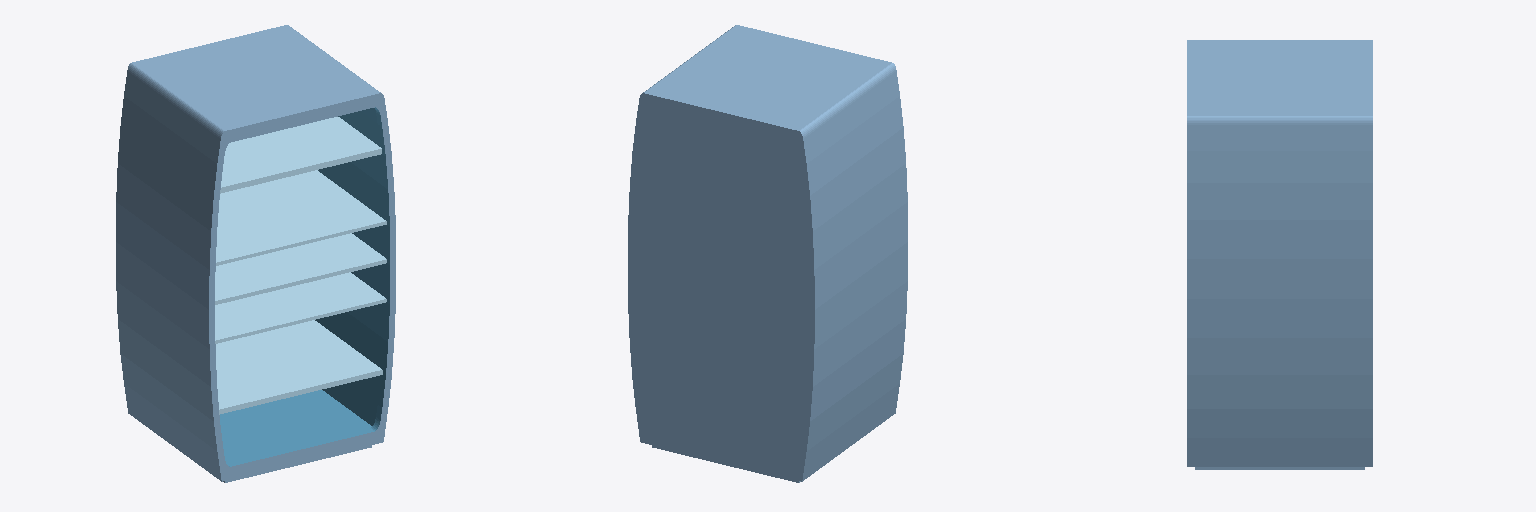
3 views of the same model, side by side, from view 1: azimuth 30°, elevation 25°; view 2: azimuth 150°, elevation 25°; view 3: azimuth 270°, elevation 25° (orthographic).
Parts seen in each view (by area): view 1: RefriRockoCuerpo:Mesh; view 2: RefriRockoCuerpo:Mesh; view 3: RefriRockoCuerpo:Mesh.
Boxes of the visible parts, box(x1,y1,x2,y2) form: RefriRockoCuerpo:Mesh: box(116, 25, 395, 482); RefriRockoCuerpo:Mesh: box(628, 25, 907, 482); RefriRockoCuerpo:Mesh: box(1187, 40, 1372, 469).
Bounding box in the file's own units: 2.31 × 4.2 × 2.
Materials: 1 (1 with a texture image).